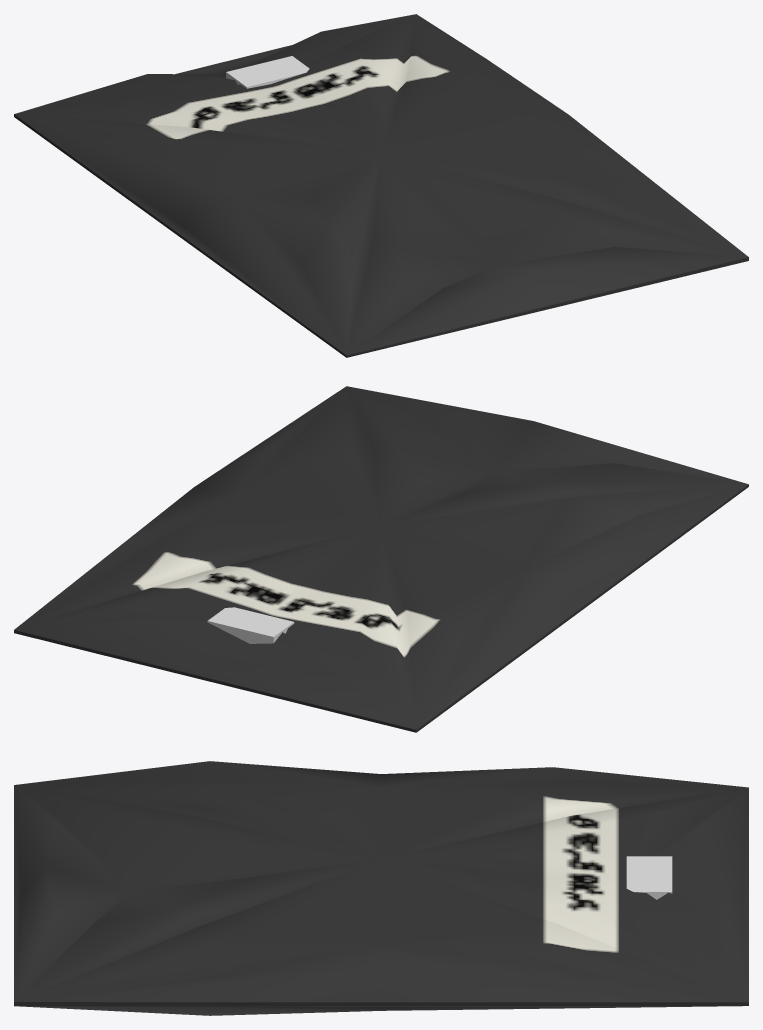
The model's file is Model_FoodPack2.fbx.
3 renders of one model, top to bottom at view 1: azimuth 30°, elevation 25°; view 2: azimuth 150°, elevation 25°; view 3: azimuth 270°, elevation 25°, orthographic. The views are drawn at different scales.
Parts seen in each view (by area): view 1: polySurface1; view 2: polySurface1; view 3: polySurface1.
Boxes of the visible parts, x1,y1,x2,y2 form: polySurface1: (14, 14, 748, 357); polySurface1: (14, 386, 748, 732); polySurface1: (14, 761, 748, 1015).
Bounding box in the file's own units: 1.11 × 0.1864 × 1.58.
